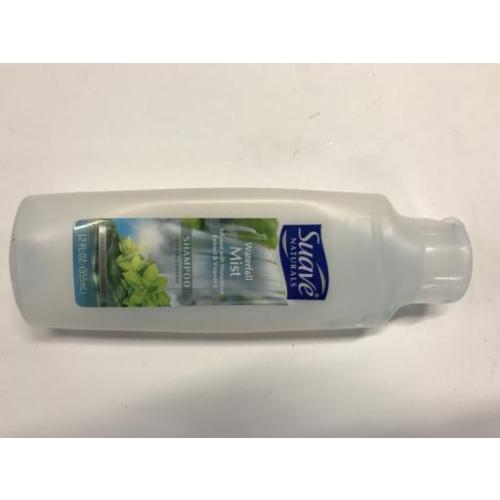plastic: (11, 195, 475, 336)
